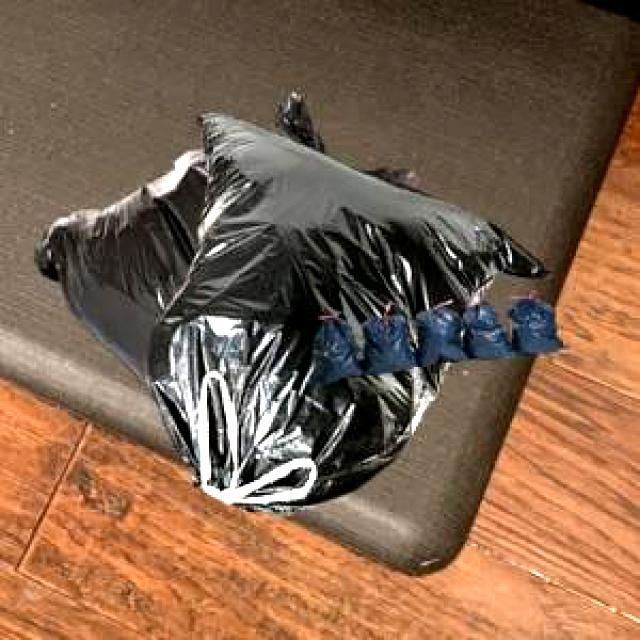Garbage_Bag: (142, 110, 547, 511), (31, 88, 417, 383), (304, 293, 560, 381)
